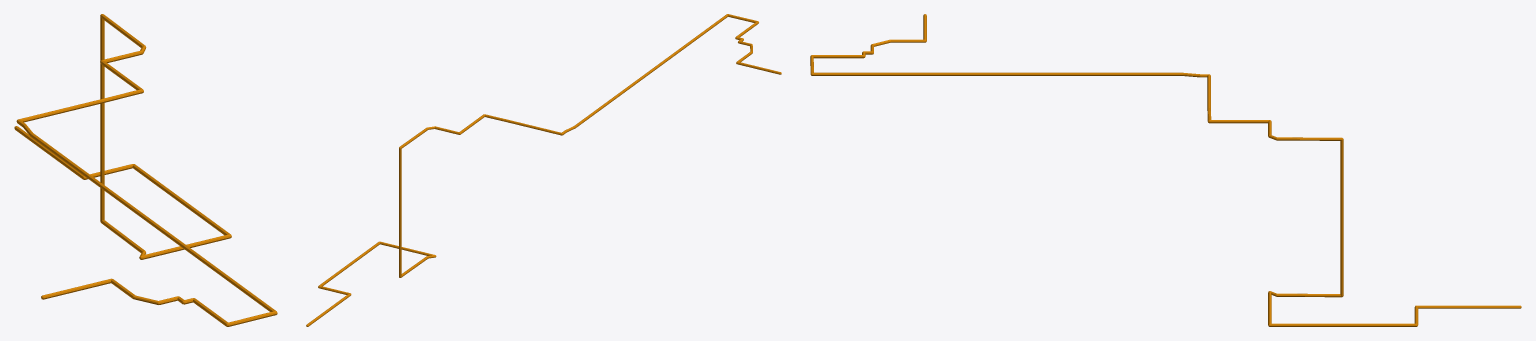
3 views of the same model, side by side, from view 1: azimuth 30°, elevation 25°; view 2: azimuth 150°, elevation 25°; view 3: azimuth 270°, elevation 25° (orthographic). The views are drawn at different scales.
Bounding box in the file's own units: 2125 × 1020 × 4124.
